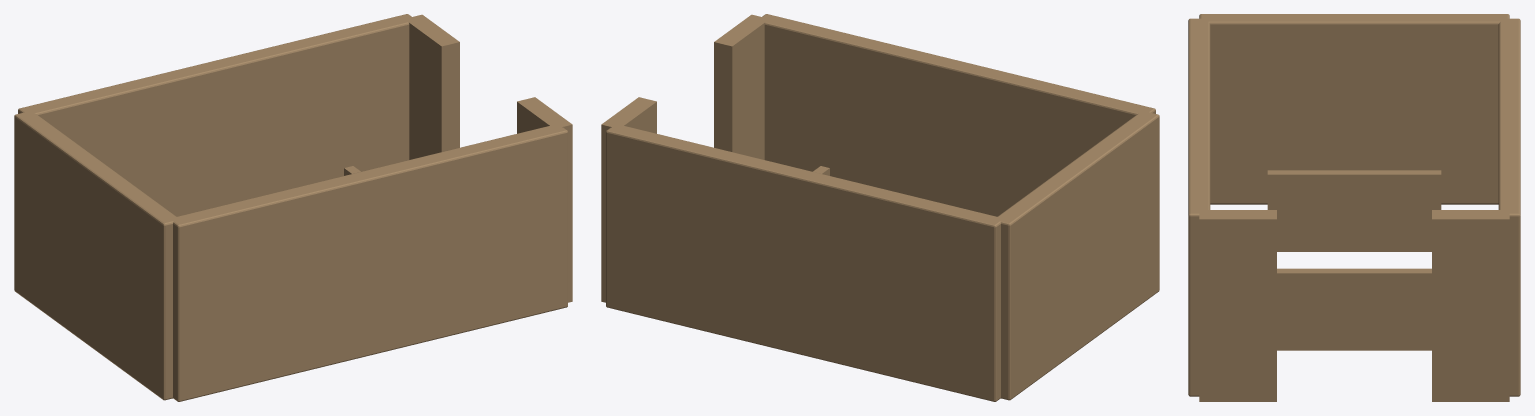
The model's file is hut.glb.
The picture shows the model from 3 angles, left to right: view 1: azimuth 30°, elevation 25°; view 2: azimuth 150°, elevation 25°; view 3: azimuth 270°, elevation 25°; orthographic projection. The views are drawn at different scales.
Parts seen in each view (by area): view 1: VisibleGeometry; view 2: VisibleGeometry; view 3: VisibleGeometry.
Boxes of the visible parts, left/top/right/bottom form: VisibleGeometry: left=14, top=14, right=572, bottom=401; VisibleGeometry: left=601, top=14, right=1159, bottom=401; VisibleGeometry: left=1188, top=14, right=1520, bottom=401.
Bounding box in the file's own units: 6.28 × 2.6 × 4.28.
